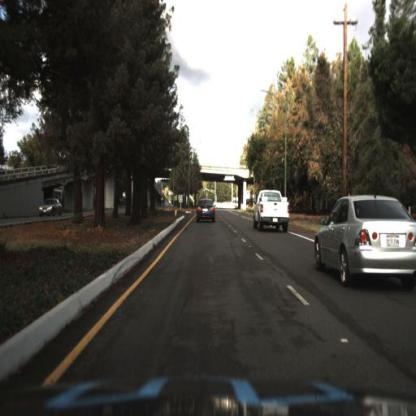car: (316, 191, 416, 292), (252, 187, 294, 237), (192, 189, 220, 233), (37, 196, 65, 221), (38, 198, 67, 222)
